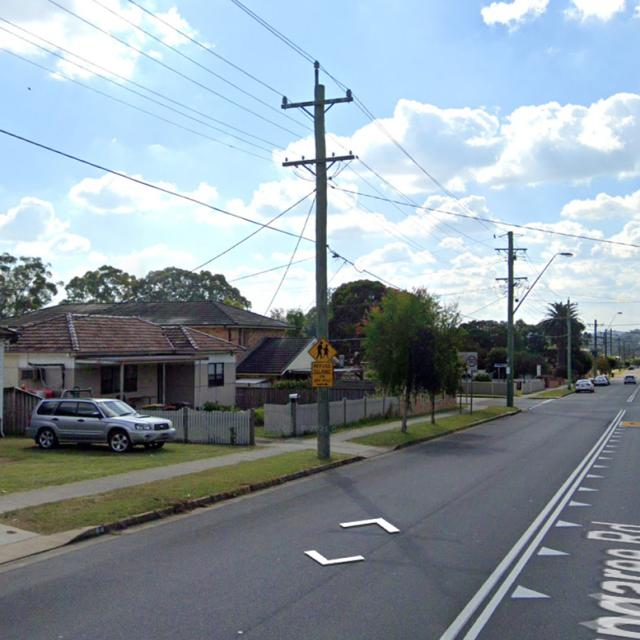HV-transmission: (277, 61, 355, 111)
crossarm: (281, 96, 352, 110), (283, 154, 356, 167), (495, 277, 528, 281), (495, 248, 527, 250), (588, 323, 604, 326)
streetlight: (513, 252, 574, 314), (606, 311, 623, 330)
timber-pole: (312, 84, 331, 458), (507, 231, 514, 409), (566, 300, 570, 390), (594, 318, 597, 378), (604, 329, 607, 357), (610, 328, 613, 356), (623, 340, 626, 363), (618, 337, 620, 361)
